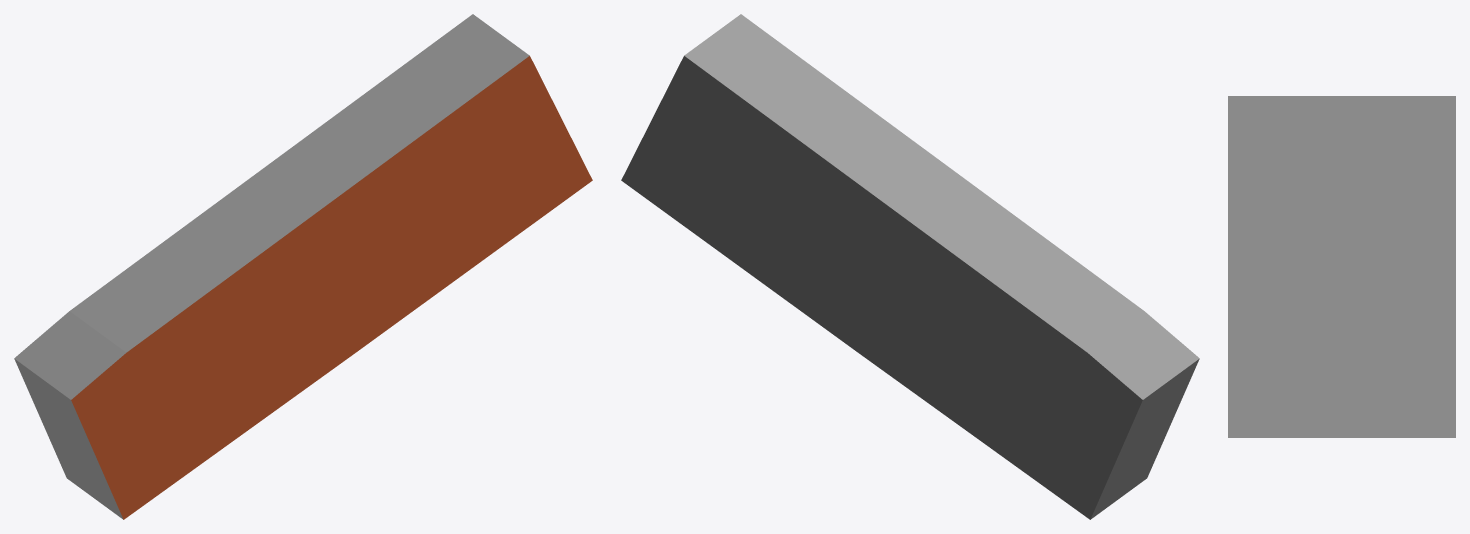
Rendered from construction_4915_assumed_A_Casa_h6m.obj.
The picture shows the model from 3 angles, left to right: view 1: azimuth 30°, elevation 25°; view 2: azimuth 150°, elevation 25°; view 3: azimuth 270°, elevation 25°; orthographic projection. The views are drawn at different scales.
Parts seen in each view (by area): view 1: construction_4915_assumed_A_Casa; view 2: construction_4915_assumed_A_Casa; view 3: construction_4915_assumed_A_Casa.
Boxes of the visible parts, box(x1,y1,x2,y2) form: construction_4915_assumed_A_Casa: box(14, 14, 592, 519); construction_4915_assumed_A_Casa: box(621, 14, 1199, 519); construction_4915_assumed_A_Casa: box(1228, 96, 1455, 437).
Size of the model in its own units: 31.74 by 21.23 by 6.
